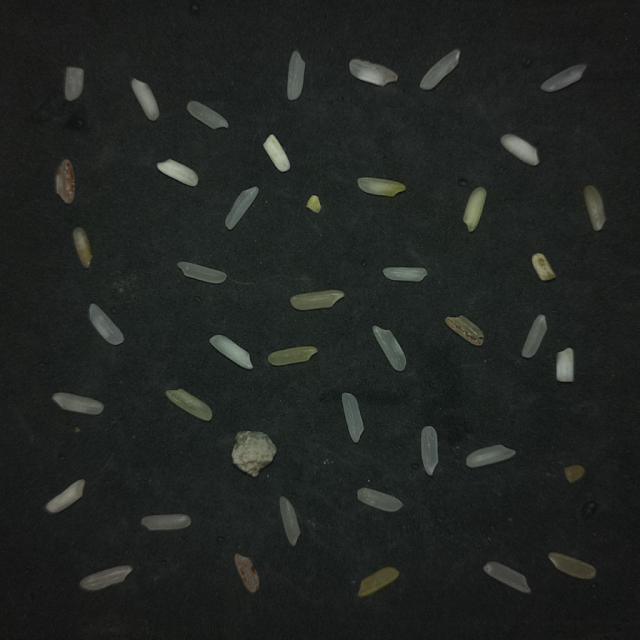broken: (45, 480, 85, 513), (65, 67, 84, 101), (384, 267, 426, 282)
chalky: (210, 335, 253, 369), (349, 59, 398, 86), (45, 480, 85, 513), (501, 134, 539, 165), (132, 79, 159, 121), (157, 159, 198, 186), (264, 134, 290, 172), (557, 348, 574, 382)
discolored: (166, 389, 212, 421), (358, 567, 399, 597), (445, 316, 484, 346), (290, 290, 344, 310), (268, 346, 318, 366), (464, 187, 486, 231), (584, 185, 605, 231), (357, 177, 406, 196), (73, 227, 92, 268), (532, 254, 555, 281), (564, 465, 585, 483), (306, 195, 321, 213)
foreign: (232, 431, 276, 477)
red: (235, 554, 259, 593), (55, 160, 75, 204)
whole: (420, 49, 460, 89), (373, 326, 406, 371), (89, 304, 124, 345), (484, 562, 530, 593), (225, 187, 258, 229), (80, 565, 132, 591), (549, 552, 596, 579), (541, 64, 586, 92), (466, 445, 516, 468), (187, 101, 228, 129), (52, 392, 104, 414), (342, 393, 364, 443), (357, 488, 402, 512), (522, 315, 546, 358), (177, 262, 226, 283), (280, 497, 300, 546), (287, 51, 305, 100), (421, 427, 438, 475), (141, 514, 191, 530)
